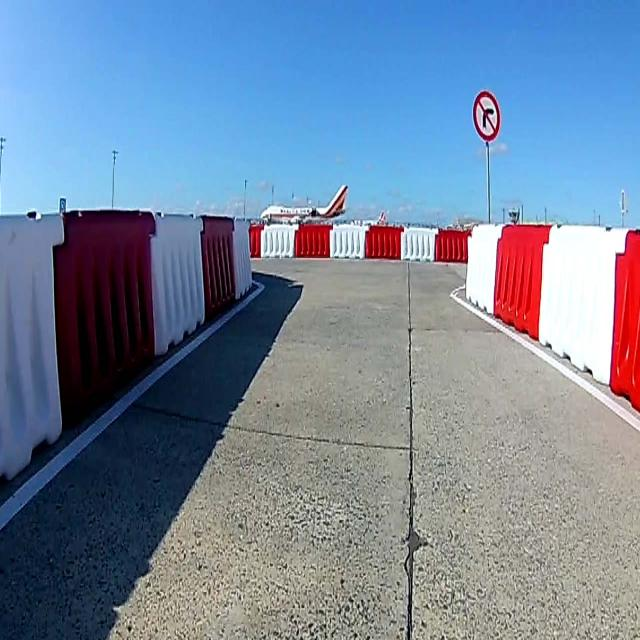sagadonulmez: (474, 92, 501, 142)
